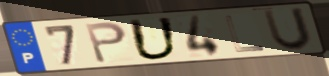4: (185, 14, 223, 58)
7: (42, 24, 79, 68)
L: (222, 14, 268, 54)
P: (83, 20, 129, 65)
U: (261, 6, 315, 53), (126, 16, 181, 62)
